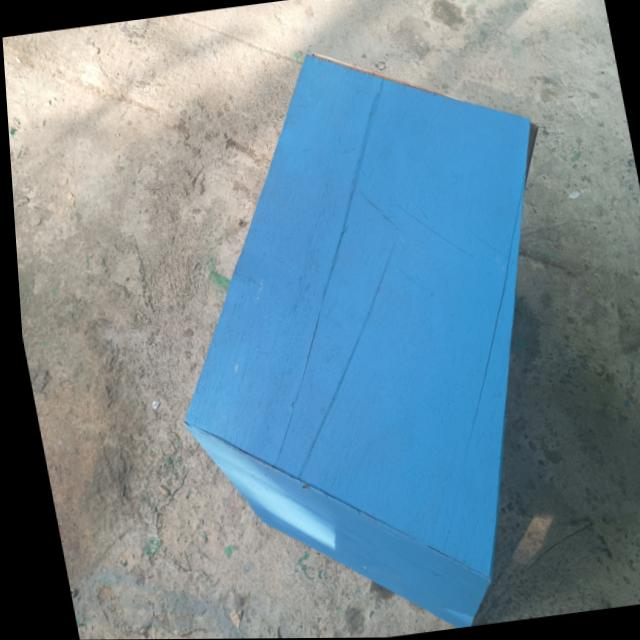blue_box: (110, 21, 618, 639)
